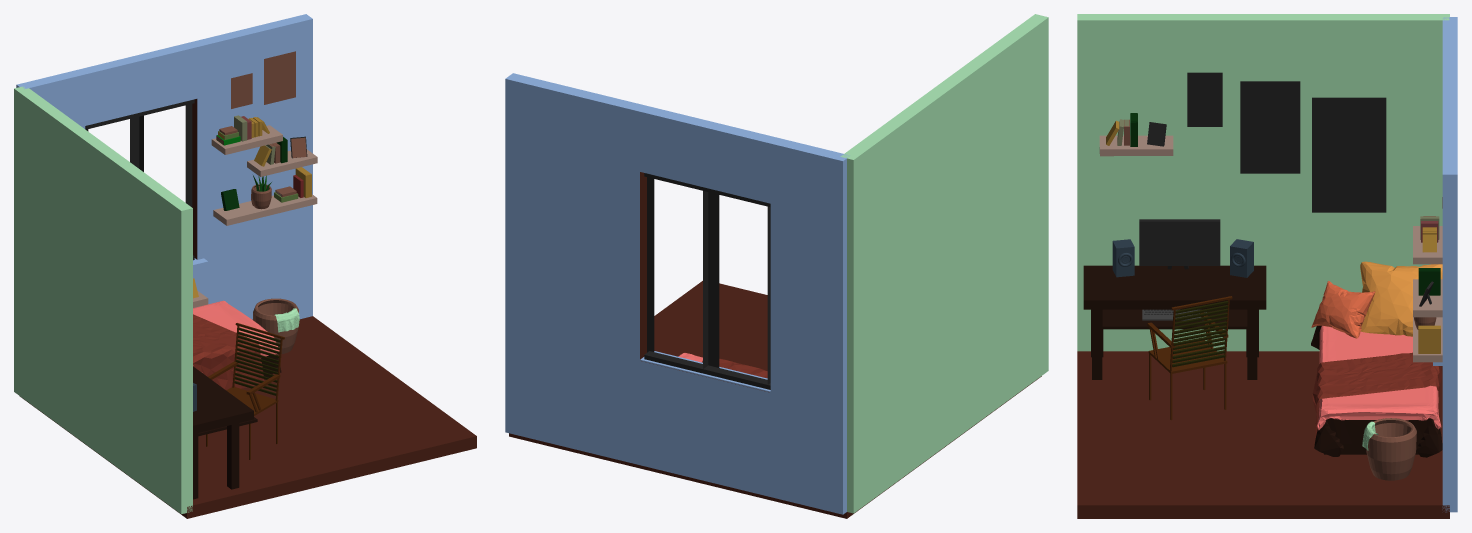
Rendered from room.gltf.
3 views of the same model, side by side, from view 1: azimuth 30°, elevation 25°; view 2: azimuth 150°, elevation 25°; view 3: azimuth 270°, elevation 25° (orthographic). The views are drawn at different scales.
Visible parts, largest first — view 1: Cube.001; view 2: Cube.001; view 3: Cube.001.
Boxes of the visible parts, x1=… form: Cube.001: x1=14, y1=14, x2=476, y2=518; Cube.001: x1=505, y1=14, x2=1048, y2=518; Cube.001: x1=1077, y1=14, x2=1457, y2=518.
Bounding box in the file's own units: 10.2 × 10.2 × 10.2.
